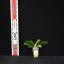leaf: (36, 41, 48, 46), (24, 42, 35, 47), (24, 40, 35, 45), (34, 39, 41, 46), (37, 44, 48, 47), (27, 46, 34, 48), (36, 45, 42, 47)
